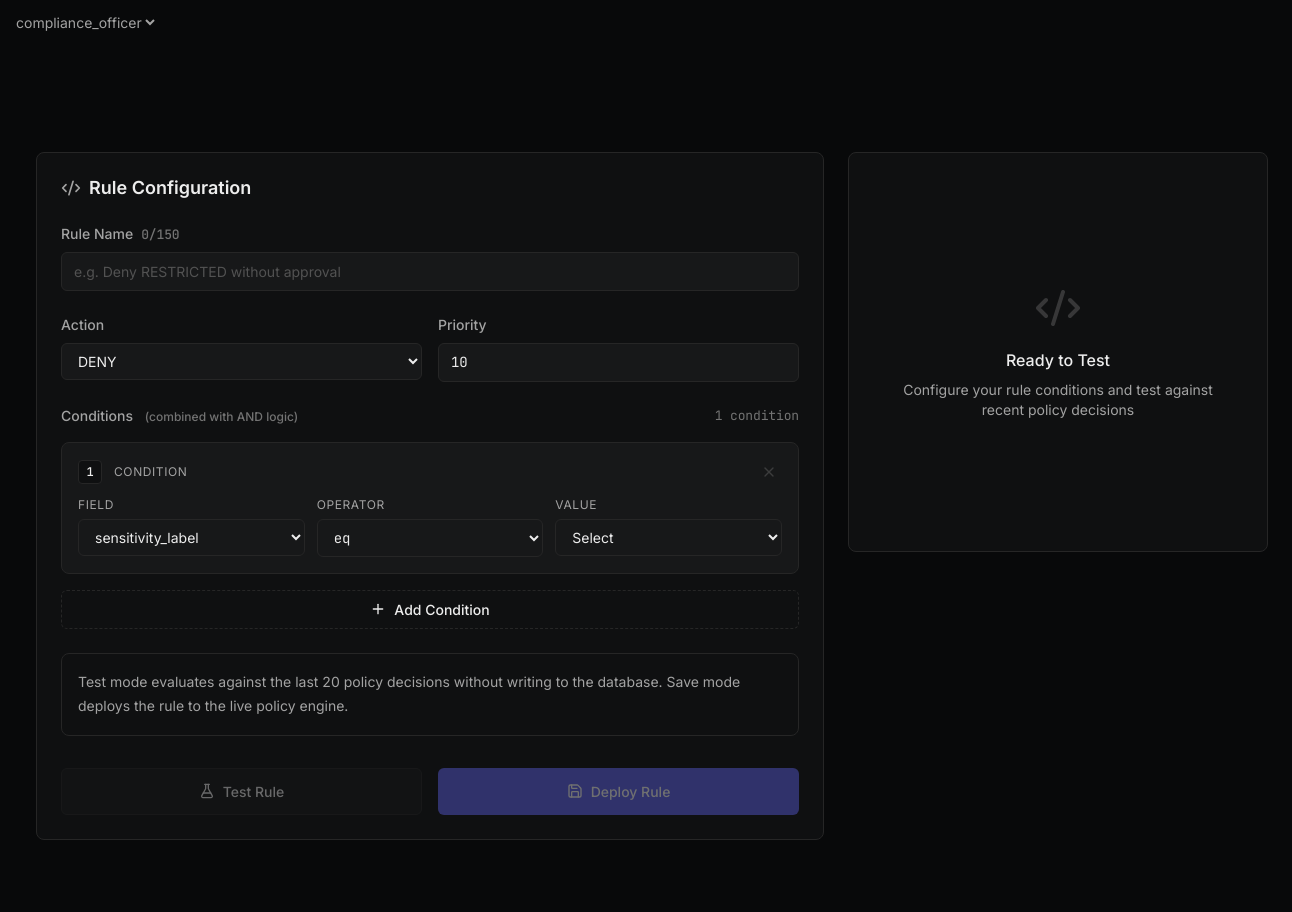
Test: RuleBuilderScreen › renders a unique-name conflict on save
In the field with placeholder "e.g. Deny RESTRICTED without approval": (430, 271) left=61, top=252, right=799, bottom=290, type "Deny restricted"
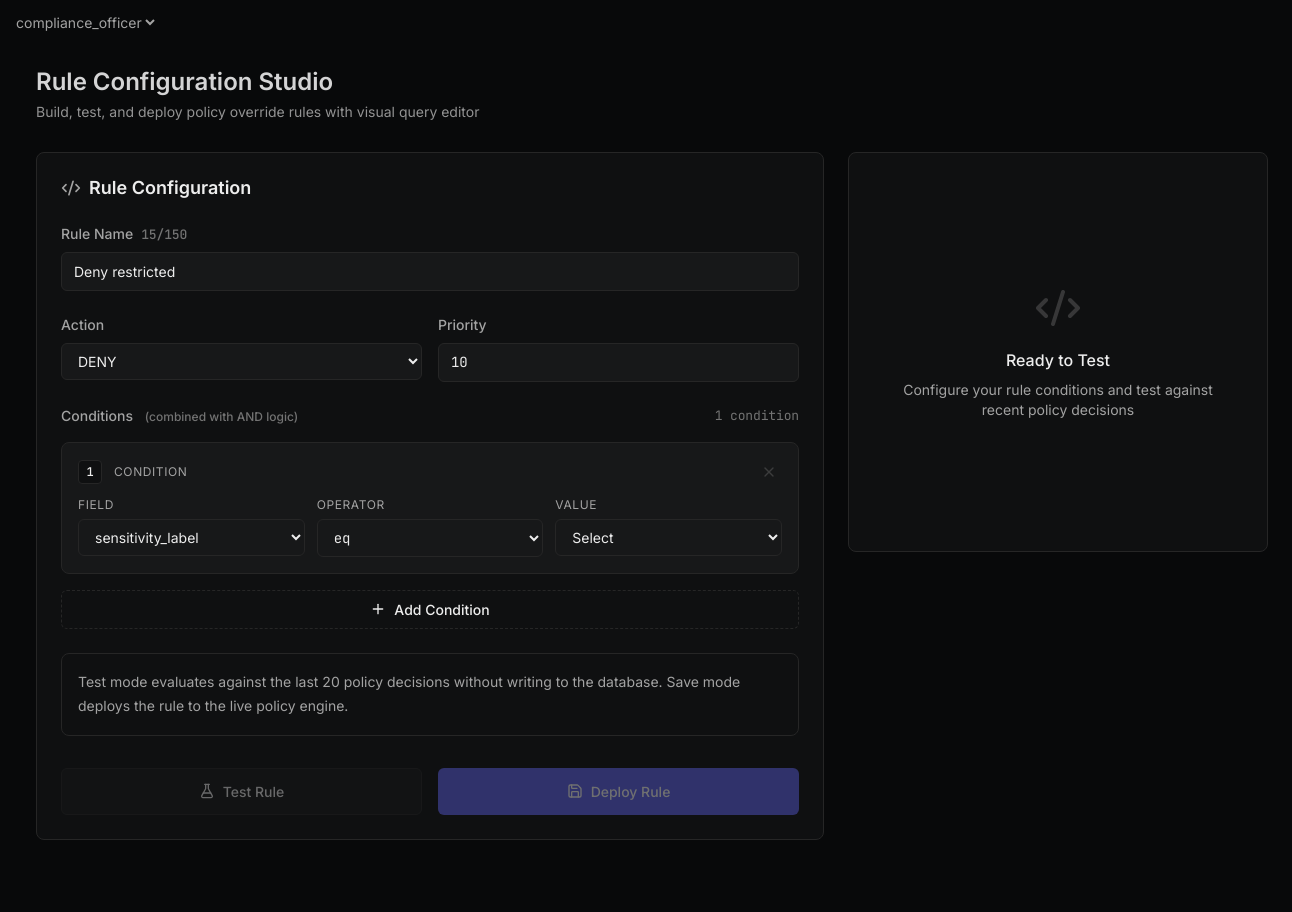
Select "RESTRICTED" in the dropdown labelled "Value": (669, 537) left=555, top=518, right=782, bottom=556
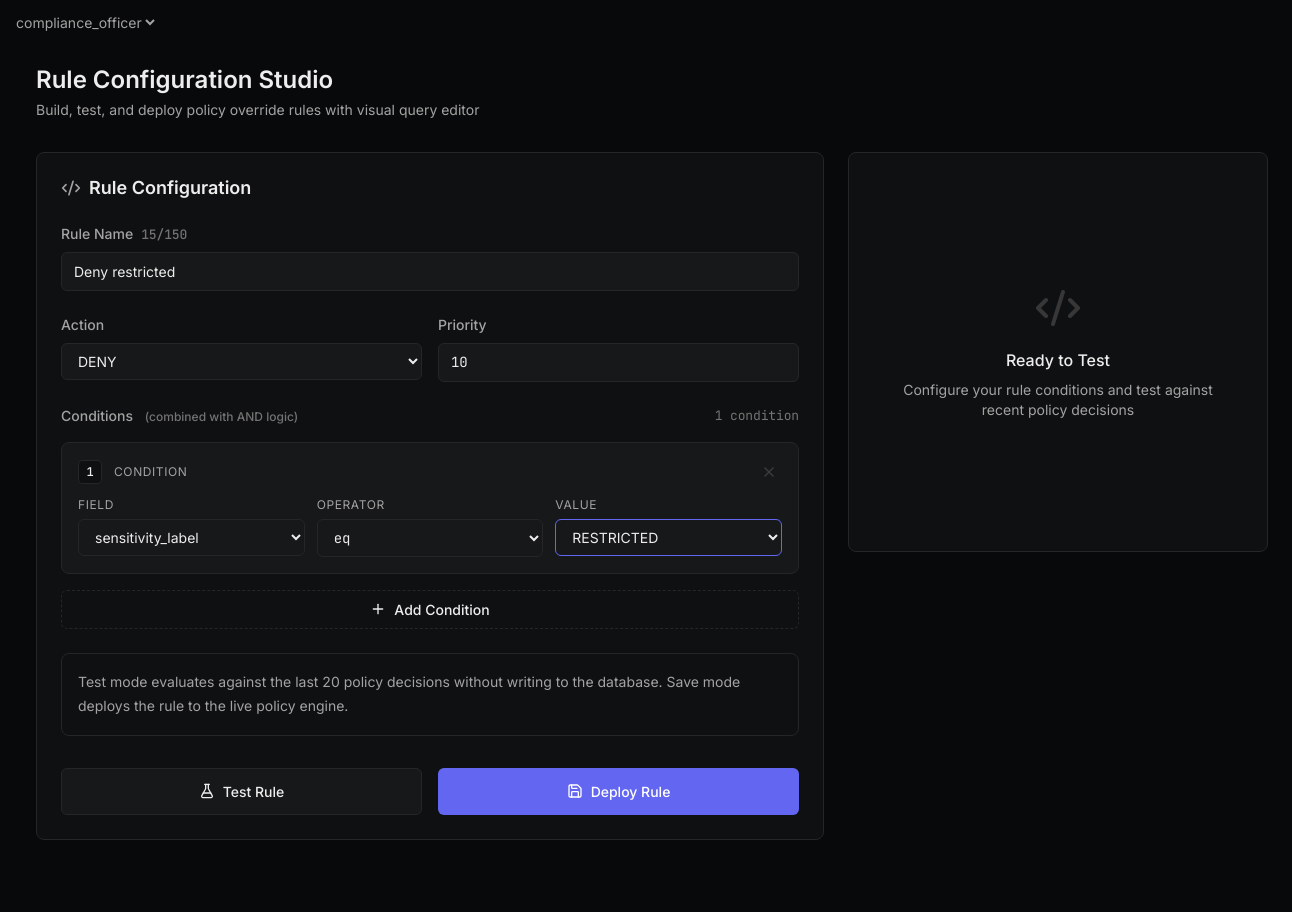
Click the button "Deploy Rule": click(618, 791) left=438, top=768, right=799, bottom=814
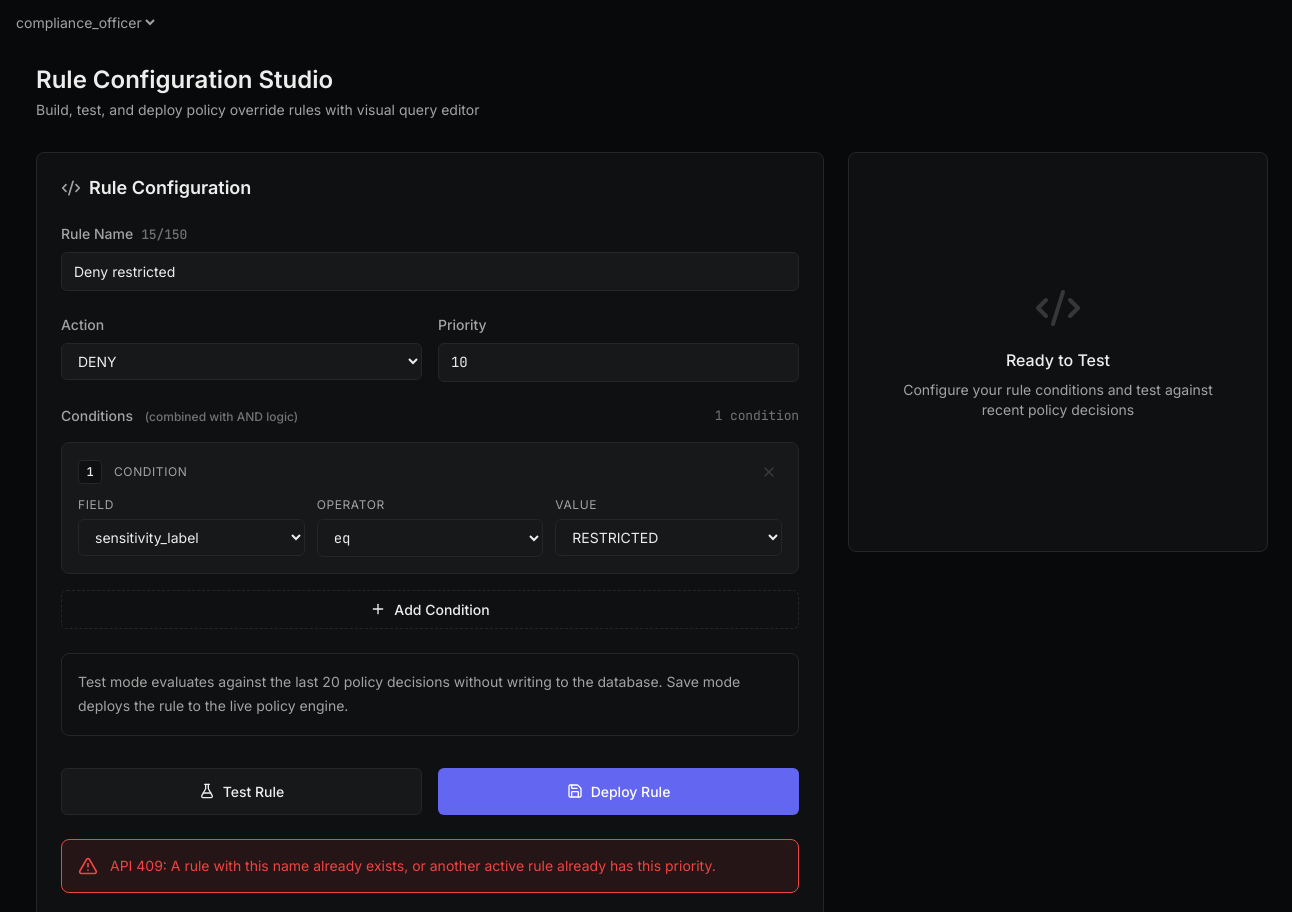
Result: the text "API 409: A rule with this name already exists" is shown at left=110, top=856, right=716, bottom=874
